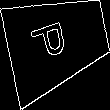P_E: (35, 18, 80, 67)
